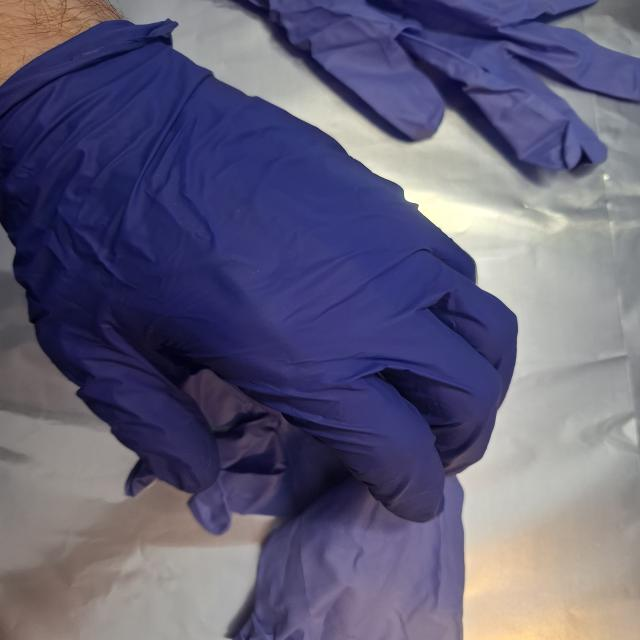glove_on: (0, 17, 525, 527)
